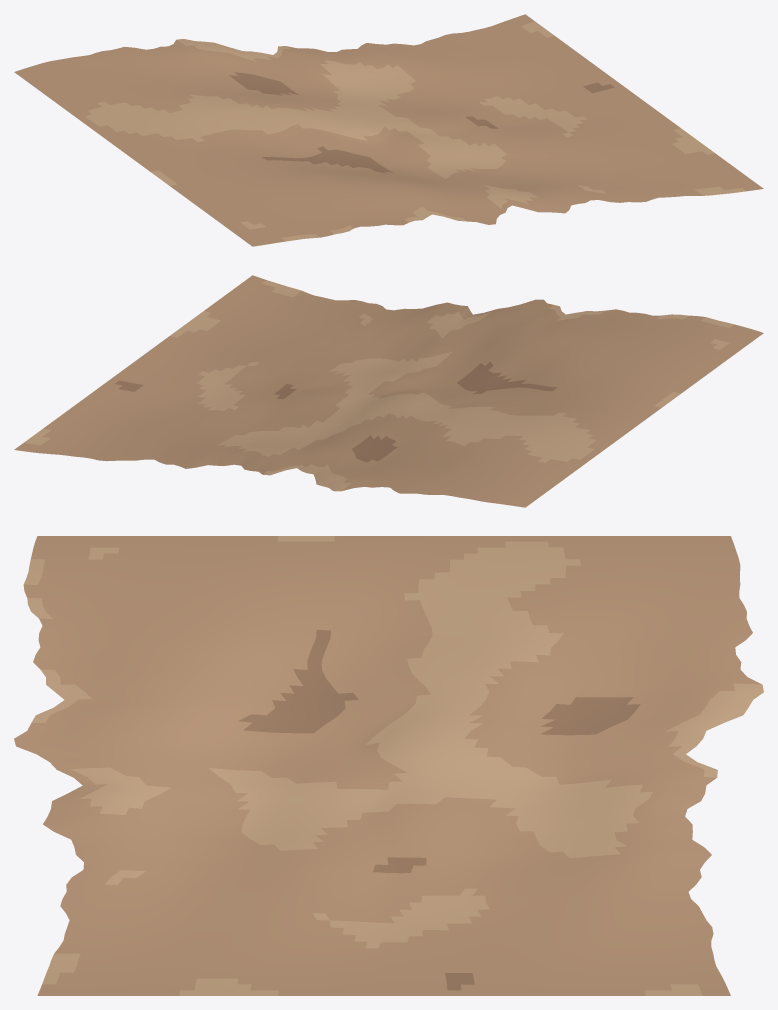
File: SM_CanyonFloor_Fall_3m.glb
The picture shows the model from 3 angles, top to bottom: view 1: azimuth 30°, elevation 25°; view 2: azimuth 150°, elevation 25°; view 3: azimuth 270°, elevation 25°; orthographic projection. The views are drawn at different scales.
Visible parts, largest first — view 1: SM_CanyonFloor_Fall_3m; view 2: SM_CanyonFloor_Fall_3m; view 3: SM_CanyonFloor_Fall_3m.
Boxes of the visible parts, bbox=[...] form: SM_CanyonFloor_Fall_3m: bbox=[14, 14, 763, 246]; SM_CanyonFloor_Fall_3m: bbox=[14, 275, 763, 507]; SM_CanyonFloor_Fall_3m: bbox=[14, 536, 763, 995].
Size of the model in its own units: 24 by 3 by 20.98.
